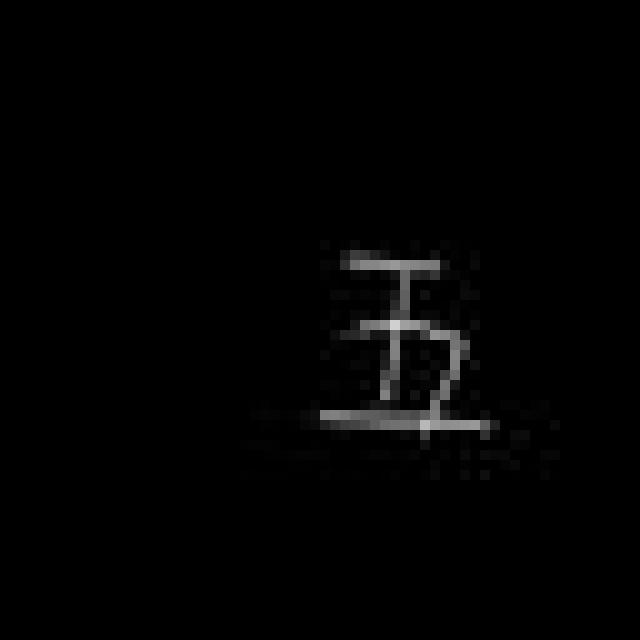5 -five-: (308, 243, 497, 442)
